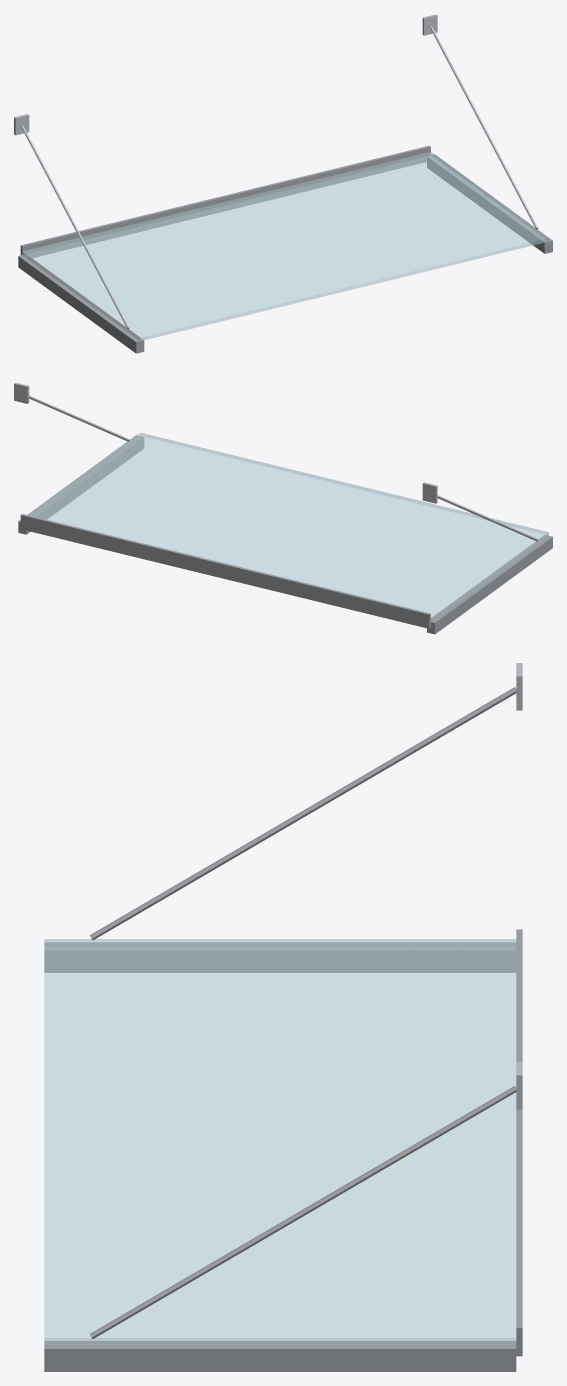
3 renders of one model, top to bottom at view 1: azimuth 30°, elevation 25°; view 2: azimuth 150°, elevation 25°; view 3: azimuth 270°, elevation 25°, orthographic. The views are drawn at different scales.
Parts seen in each view (by area): view 1: baseOffset=2.7;depth=1.5;height=0.15;material=glass;power=;s (×3); view 2: baseOffset=2.7;depth=1.5;height=0.15;material=glass;power=;s (×3); view 3: baseOffset=2.7;depth=1.5;height=0.15;material=glass;power=;s (×3).
Boxes of the visible parts, x1=… form: baseOffset=2.7;depth=1.5;height=0.15;material=glass;power=;s (×3): x1=14, y1=14, x2=552, y2=353; baseOffset=2.7;depth=1.5;height=0.15;material=glass;power=;s (×3): x1=14, y1=382, x2=552, y2=634; baseOffset=2.7;depth=1.5;height=0.15;material=glass;power=;s (×3): x1=44, y1=663, x2=522, y2=1371.
Bounding box in the file's own units: 3.1 × 1.52 × 1.05.
